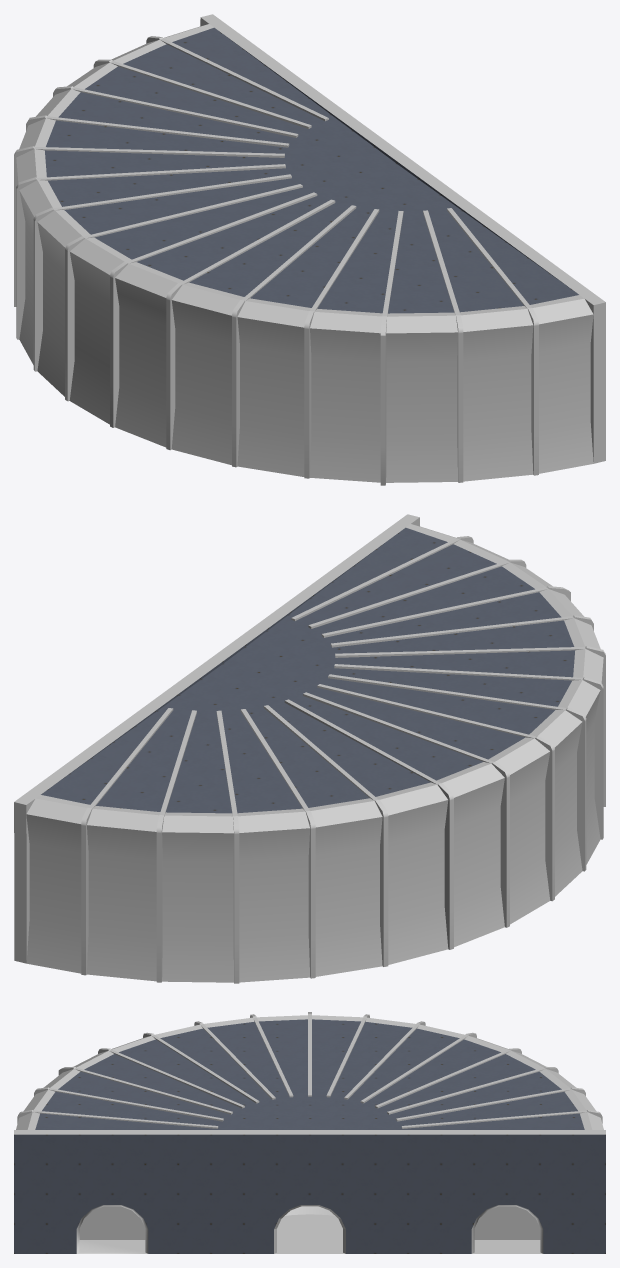
Rendered from AcidCenterPeice.fbx.
The picture shows the model from 3 angles, top to bottom: view 1: azimuth 30°, elevation 25°; view 2: azimuth 150°, elevation 25°; view 3: azimuth 270°, elevation 25°; orthographic projection. The views are drawn at different scales.
Visible parts, largest first — view 1: AcidCenterPeice, AcidCenterPeiceFloor, AcidCenterPeice3, AcidCenterPeice2, AcidCenterPeice1Shape; view 2: AcidCenterPeice, AcidCenterPeiceFloor, AcidCenterPeice3, AcidCenterPeice2, AcidCenterPeice1Shape; view 3: AcidCenterPeice1Shape, AcidCenterPeiceFloor, AcidCenterPeice, AcidCenterPeice2, AcidCenterPeice4, AcidCenterPeice3.
Boxes of the visible parts, box(x1,y1,x2,y2) form: AcidCenterPeice: box(16, 14, 605, 482); AcidCenterPeiceFloor: box(44, 27, 578, 313); AcidCenterPeice3: box(14, 36, 538, 485); AcidCenterPeice2: box(34, 38, 531, 316); AcidCenterPeice1Shape: box(227, 37, 567, 286); AcidCenterPeice: box(14, 514, 603, 982); AcidCenterPeiceFloor: box(41, 527, 575, 813); AcidCenterPeice3: box(81, 536, 605, 983); AcidCenterPeice2: box(88, 538, 585, 816); AcidCenterPeice1Shape: box(53, 539, 389, 785); AcidCenterPeice1Shape: box(14, 1134, 605, 1253); AcidCenterPeiceFloor: box(35, 1019, 584, 1129); AcidCenterPeice: box(14, 1015, 605, 1239); AcidCenterPeice2: box(33, 1015, 586, 1128); AcidCenterPeice4: box(76, 1205, 543, 1253); AcidCenterPeice3: box(17, 1012, 602, 1123).
Bounding box in the file's own units: 9.06 × 4.14 × 17.98.
